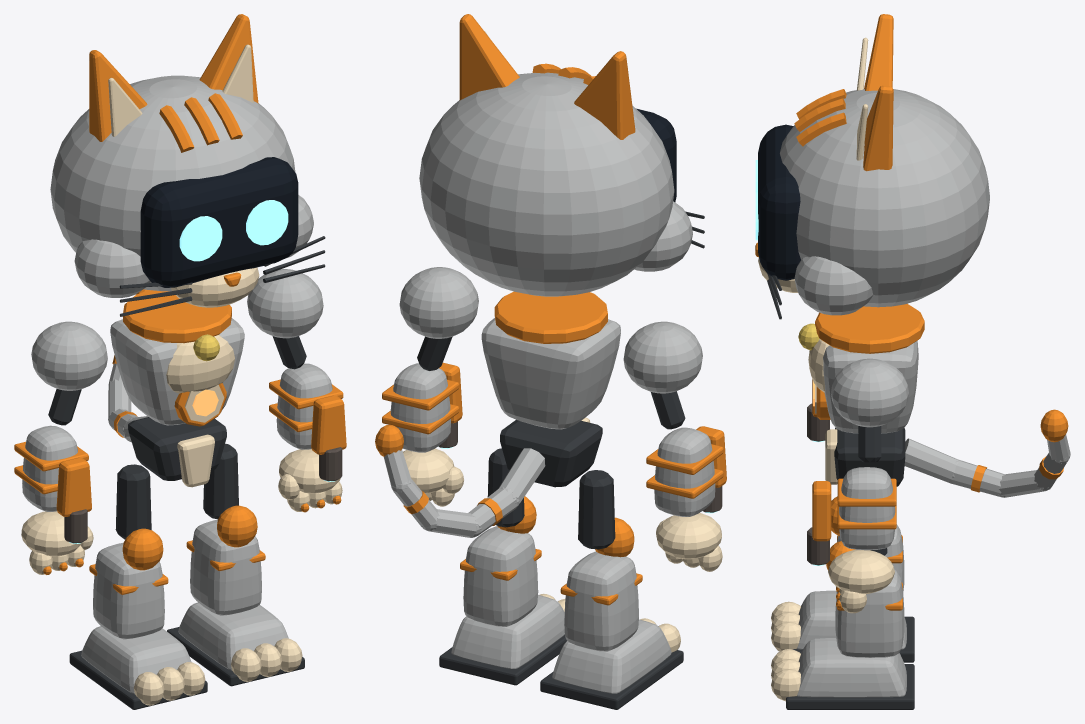
The model's file is gato.glb.
3 renders of one model, left to right at view 1: azimuth 30°, elevation 25°; view 2: azimuth 150°, elevation 25°; view 3: azimuth 270°, elevation 25°, orthographic. The views are drawn at different scales.
Visible parts, largest first — view 1: cabeca_p.001, visor.001, tronco_p.001, bota.003, bota.002, ombro_p.003, pe.003, pe.002, ombro_p.002, coleira, pelve.001, bochecha.001 (+42 smaller); view 2: cabeca_p.001, tronco_p.001, bota.003, bota.002, coleira, pe.003, pe.002, ombro_p.003, ombro_p.002, pelve.001, antebraco.003, antebraco.002 (+26 smaller); view 3: cabeca_p.001, visor.001, pe.002, coleira, ombro_p.002, bota.002, bochecha, antebraco.002, tronco_p.001, mao.002, pelve.001, orelha_gato (+23 smaller).
Boxes of the visible parts, x1,y1,x2,y2 form: cabeca_p.001: (50, 75, 295, 291); visor.001: (140, 157, 298, 287); tronco_p.001: (110, 318, 244, 425); bota.003: (93, 542, 164, 639); bota.002: (190, 519, 261, 615); ombro_p.003: (31, 321, 107, 390); pe.003: (81, 626, 191, 694); pe.002: (178, 602, 288, 670); ombro_p.002: (247, 269, 323, 338); coleira: (123, 290, 231, 343); pelve.001: (128, 417, 226, 480); bochecha.001: (74, 239, 150, 297); cabeca_p.001: (419, 72, 674, 296); tronco_p.001: (481, 318, 620, 429); bota.003: (564, 551, 638, 651); bota.002: (463, 526, 538, 626); coleira: (494, 291, 607, 343); pe.003: (552, 619, 671, 693); pe.002: (451, 595, 564, 668); ombro_p.003: (623, 321, 702, 393); ombro_p.002: (399, 267, 478, 338); pelve.001: (500, 419, 602, 487); antebraco.003: (654, 427, 715, 516); antebraco.002: (390, 363, 450, 452); cabeca_p.001: (780, 89, 989, 307); visor.001: (758, 124, 800, 280); pe.002: (797, 638, 906, 697); coleira: (815, 303, 924, 353); ombro_p.002: (831, 358, 908, 427); bota.002: (835, 570, 904, 657); bochecha: (794, 256, 873, 315); antebraco.002: (839, 467, 895, 550); tronco_p.001: (823, 340, 918, 433); mao.002: (828, 550, 894, 593); pelve.001: (834, 428, 905, 486); orelha_gato: (863, 85, 893, 171).
Bounding box in the file's own units: 0.642 × 1.22 × 0.564.
